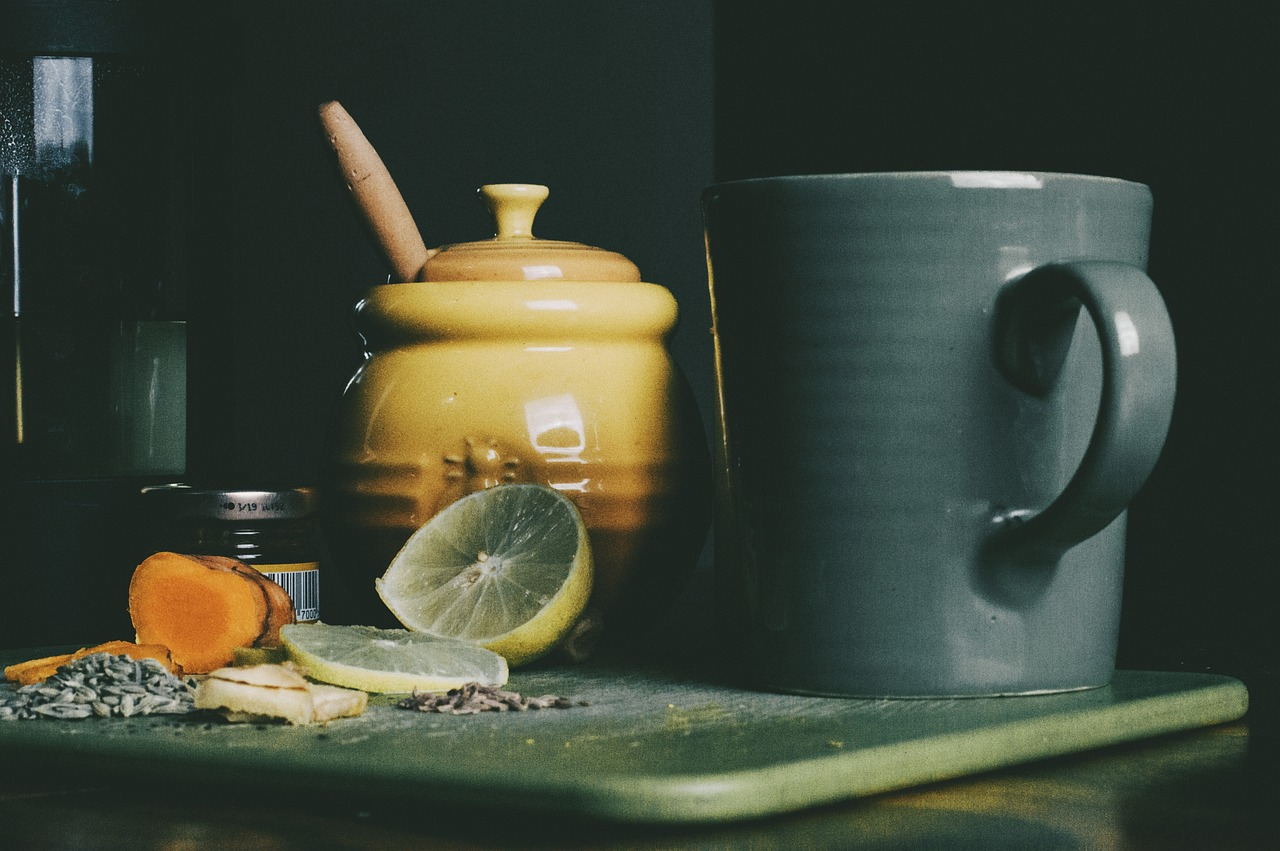mug: (658, 133, 1207, 716)
